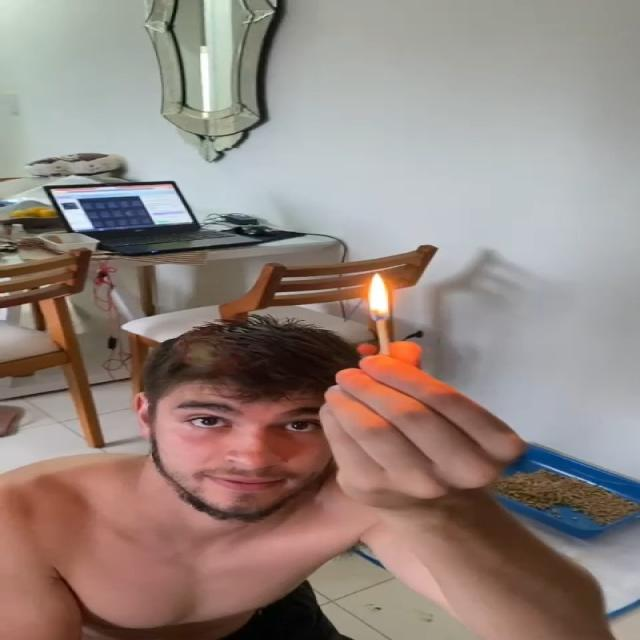fogo-ypXI: (367, 271, 391, 322)
